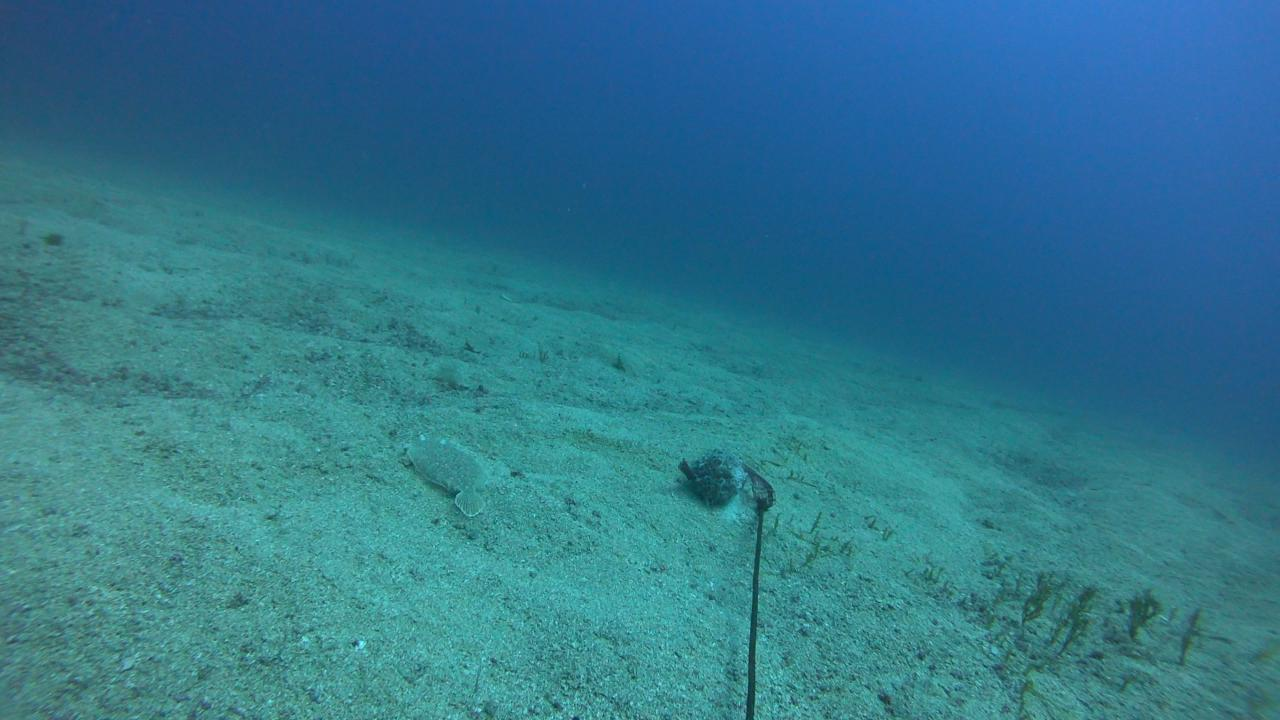bothus: (398, 432, 494, 524)
